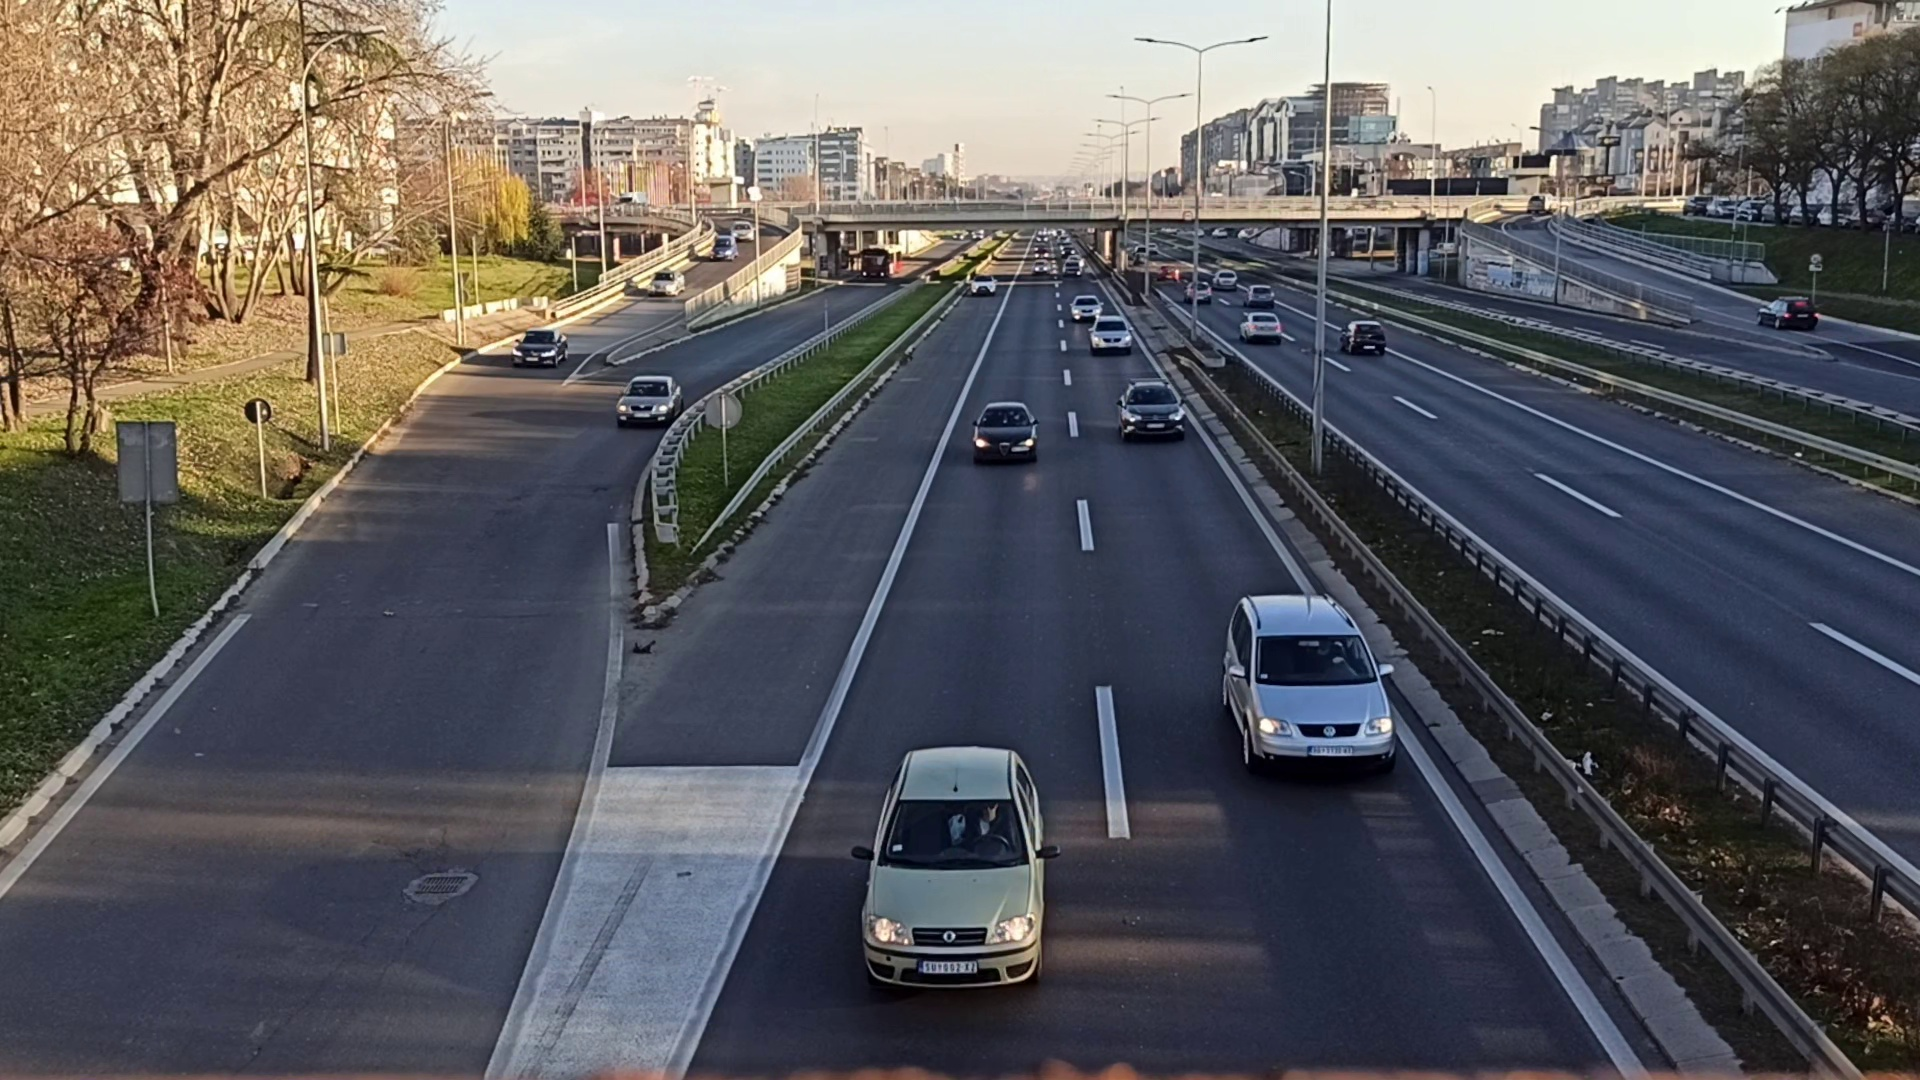car: (857, 741, 1047, 990), (1215, 589, 1396, 774), (1116, 381, 1185, 442), (971, 400, 1039, 459), (615, 373, 679, 429), (508, 324, 566, 368), (1336, 322, 1387, 355), (1087, 316, 1131, 349), (642, 266, 686, 299), (1240, 310, 1279, 339), (1071, 294, 1105, 320), (1246, 281, 1274, 305), (1184, 280, 1211, 301)
